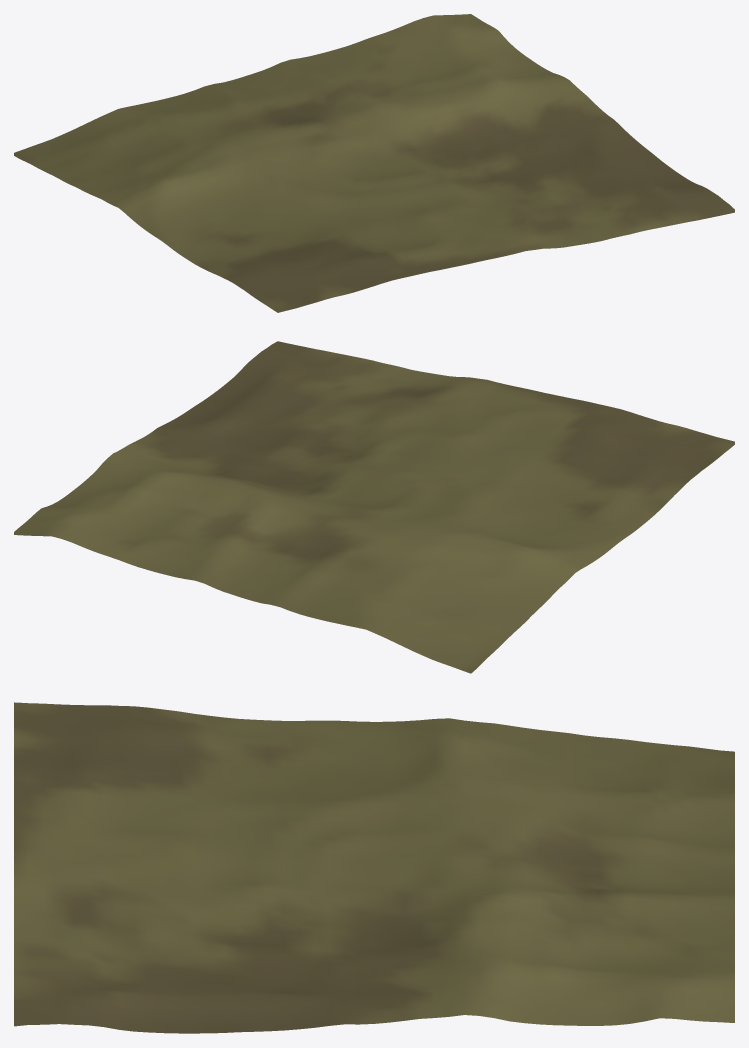
The model's file is land_m_10_01.glb.
3 renders of one model, top to bottom at view 1: azimuth 30°, elevation 25°; view 2: azimuth 150°, elevation 25°; view 3: azimuth 270°, elevation 25°, orthographic. The views are drawn at different scales.
Visible parts, largest first — view 1: land_m_10_01; view 2: land_m_10_01; view 3: land_m_10_01.
Boxes of the visible parts, <box> form: land_m_10_01: <box>14,14,734,312</box>; land_m_10_01: <box>14,341,734,673</box>; land_m_10_01: <box>14,702,734,1033</box>.
Bounding box in the file's own units: 960 × 87.68 × 960.
